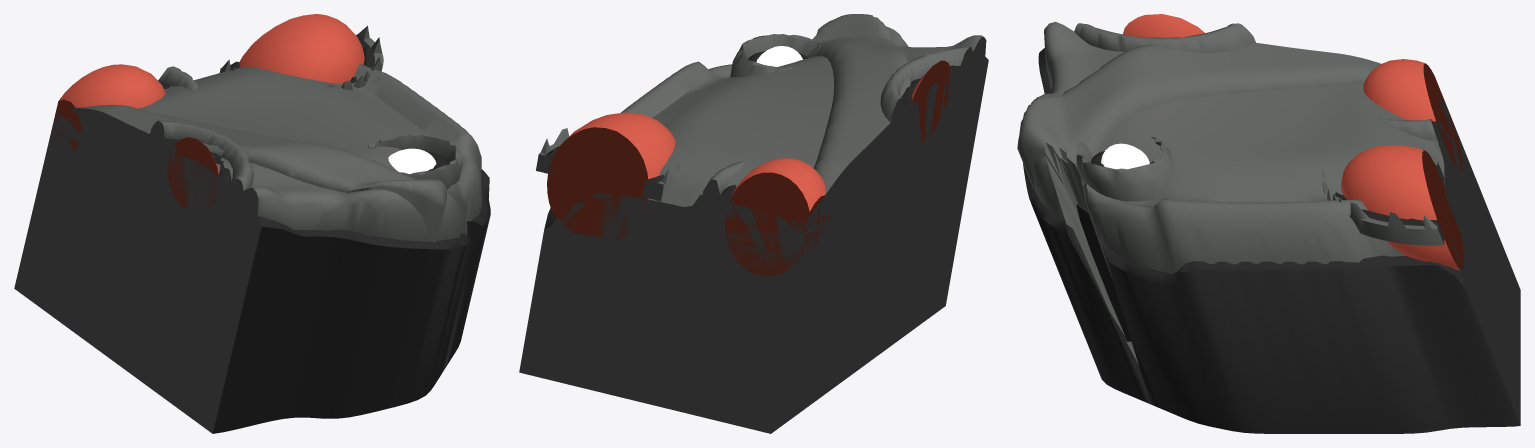
The model's file is dread_shoulder_r_121.glb.
3 renders of one model, left to right at view 1: azimuth 30°, elevation 25°; view 2: azimuth 150°, elevation 25°; view 3: azimuth 270°, elevation 25°, orthographic. The views are drawn at different scales.
Visible parts, largest first — view 1: dread_shoulder_r_121; view 2: dread_shoulder_r_121; view 3: dread_shoulder_r_121.
Part boxes in pixels (box(x1,y1,x2,y2)): dread_shoulder_r_121: box(14, 14, 490, 433); dread_shoulder_r_121: box(519, 14, 988, 433); dread_shoulder_r_121: box(1017, 14, 1520, 433).
Bounding box in the file's own units: 21.27 × 18.78 × 31.04.
